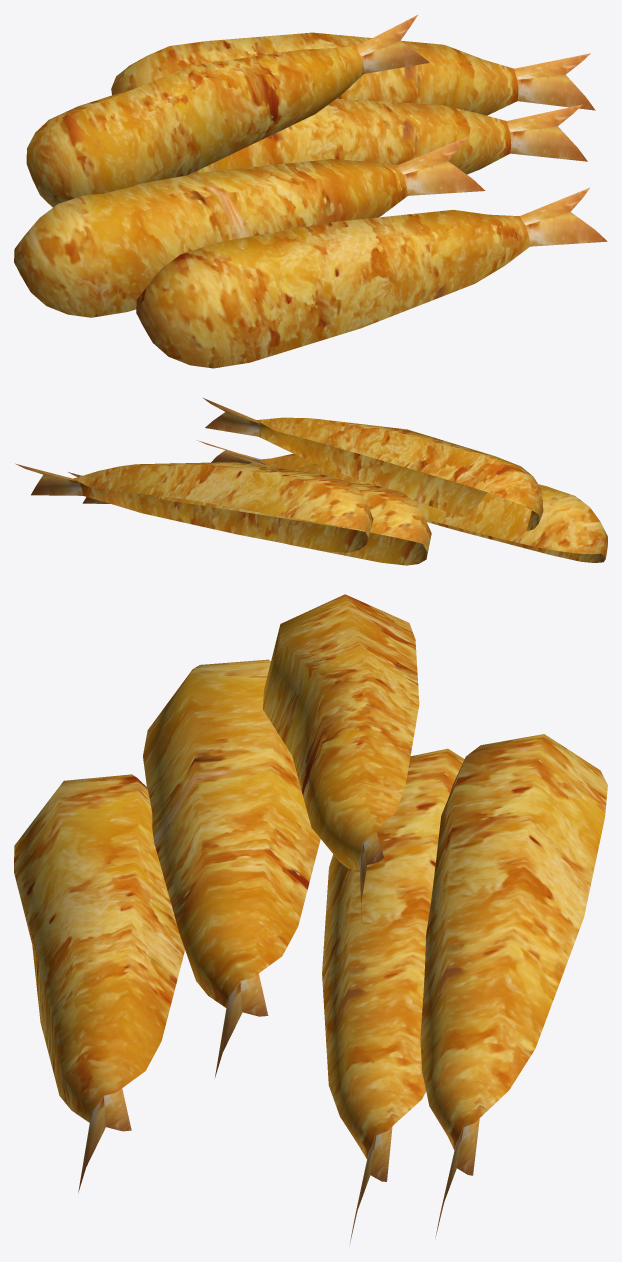
Rendered from Shrimp.fbx.
3 renders of one model, top to bottom at view 1: azimuth 30°, elevation 25°; view 2: azimuth 150°, elevation 25°; view 3: azimuth 270°, elevation 25°, orthographic. The views are drawn at different scales.
Visible parts, largest first — view 1: Sphere, Sphere.001, Sphere.002, Sphere.003, Sphere.004; view 2: Sphere.004, Sphere.002, Sphere.001, Sphere.003, Sphere; view 3: Sphere.004, Sphere.001, Sphere, Sphere.003, Sphere.002.
Part boxes in pixels (x1,y1,x2,y2): Sphere: (136,187,607,368); Sphere.001: (14,137,485,317); Sphere.002: (26,15,429,207); Sphere.003: (189,98,587,174); Sphere.004: (111,32,595,115); Sphere.004: (15,462,373,552); Sphere.002: (202,397,543,530); Sphere.001: (224,452,607,562); Sphere.003: (68,472,431,565); Sphere: (197,440,546,486); Sphere.004: (420,734,607,1236); Sphere.001: (143,659,320,1078); Sphere: (14,774,184,1192); Sphere.003: (322,748,464,1244); Sphere.002: (263,594,419,922).
Bounding box in the file's own units: 515 × 155 × 267.
1 material, 1 textured.
